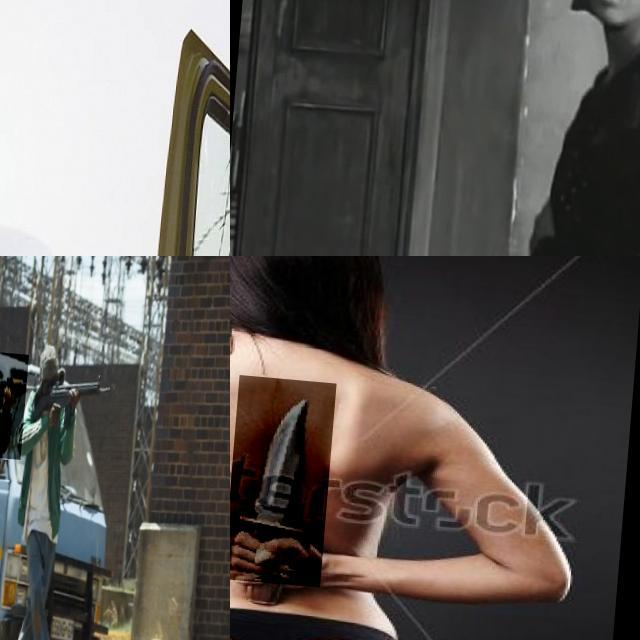-: (230, 370, 340, 581)
gun-knife-thesis - v11 Yolov5 augmented: (230, 0, 316, 256), (26, 346, 119, 458), (0, 346, 32, 455)
